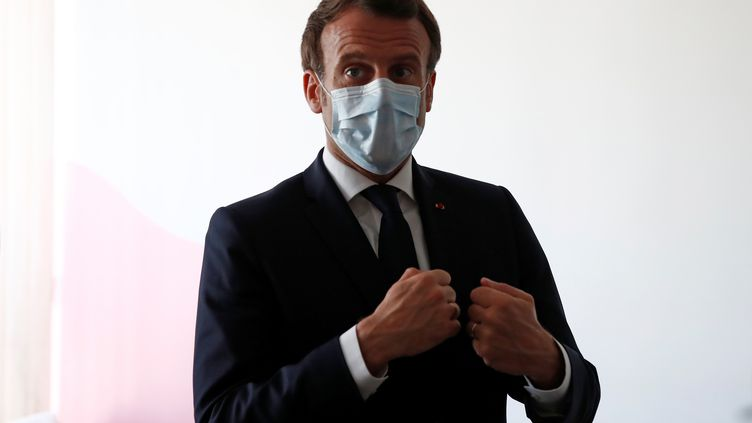with_mask: (305, 32, 438, 172)
